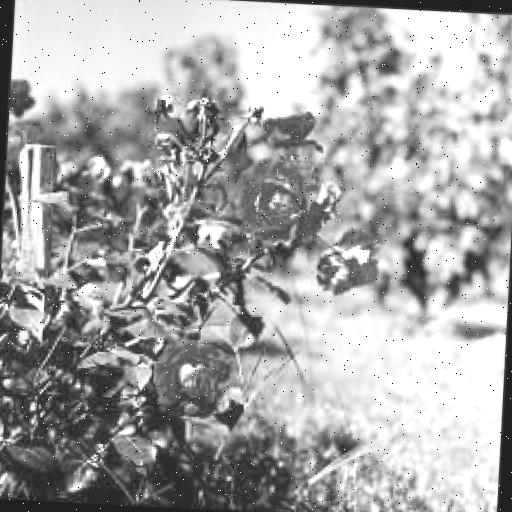rose: (233, 151, 336, 248), (150, 338, 236, 422)
